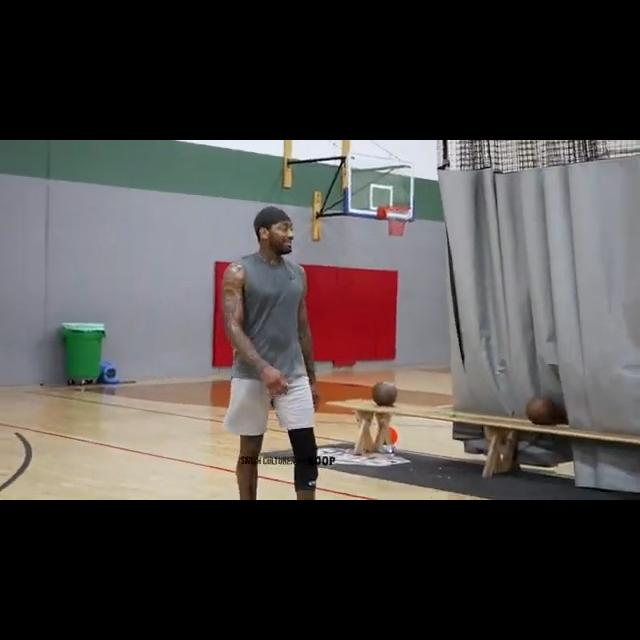basketball: (525, 397, 556, 423), (369, 381, 399, 406)
hoop: (386, 203, 413, 238)
